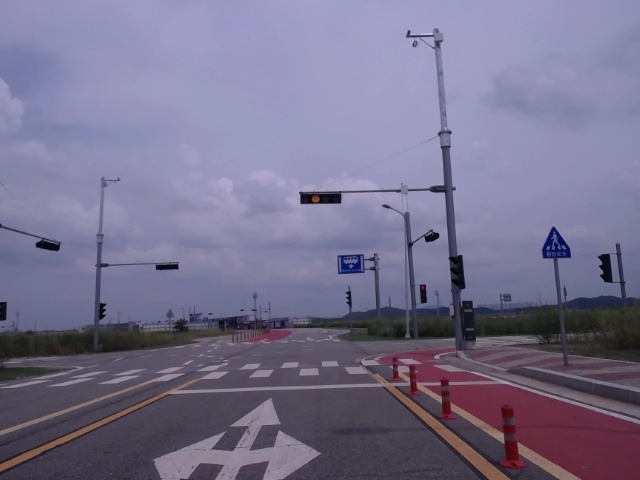orange_4: (298, 190, 343, 207)
